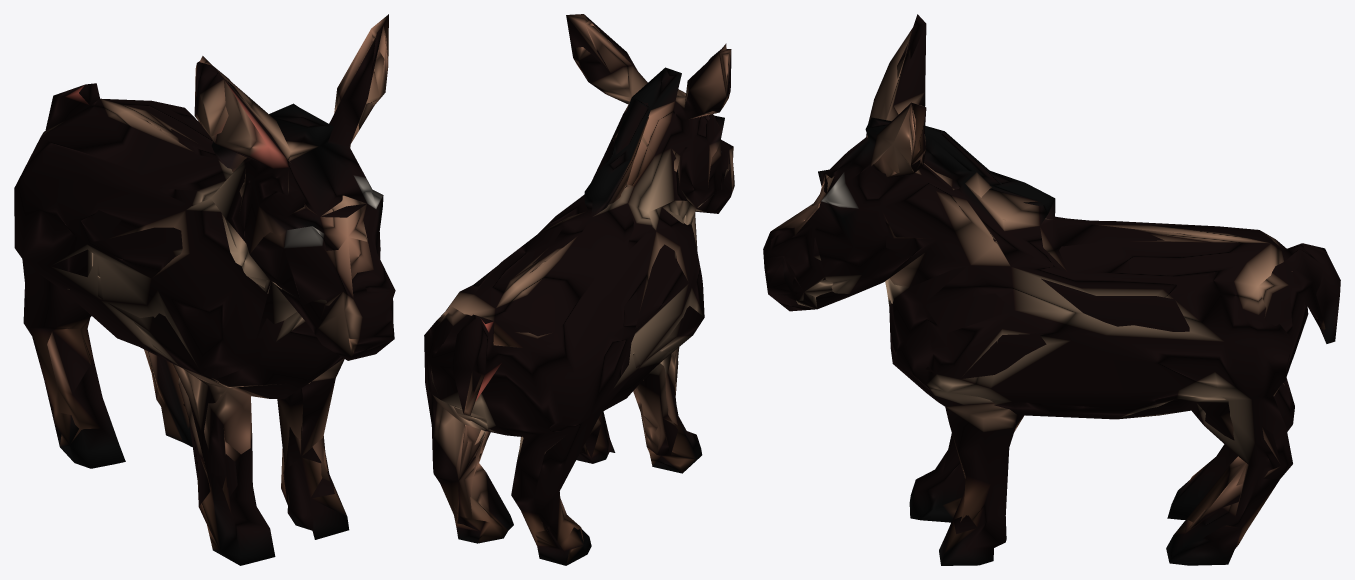
File: gen3d-donkey-lod0.glb
The picture shows the model from 3 angles, left to right: view 1: azimuth 30°, elevation 25°; view 2: azimuth 150°, elevation 25°; view 3: azimuth 270°, elevation 25°; orthographic projection. The views are drawn at different scales.
Parts seen in each view (by area): view 1: part_0; view 2: part_0; view 3: part_0.
Boxes of the visible parts, box(x1,y1,x2,y2) form: part_0: box(14, 14, 395, 565); part_0: box(424, 14, 734, 565); part_0: box(763, 14, 1340, 565).
Size of the model in its own units: 0.3973 by 0.9996 by 1.09.
